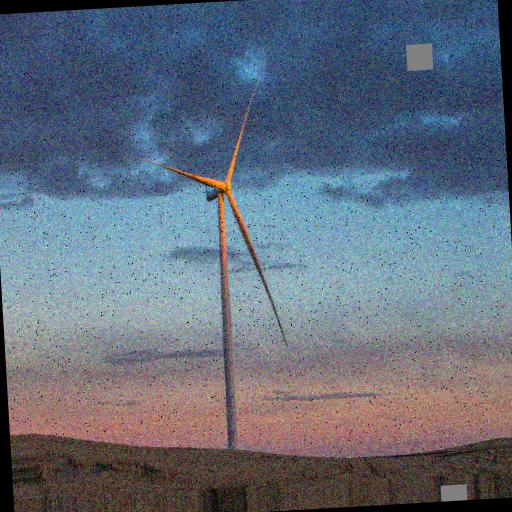wind turbine: (133, 62, 287, 448)
